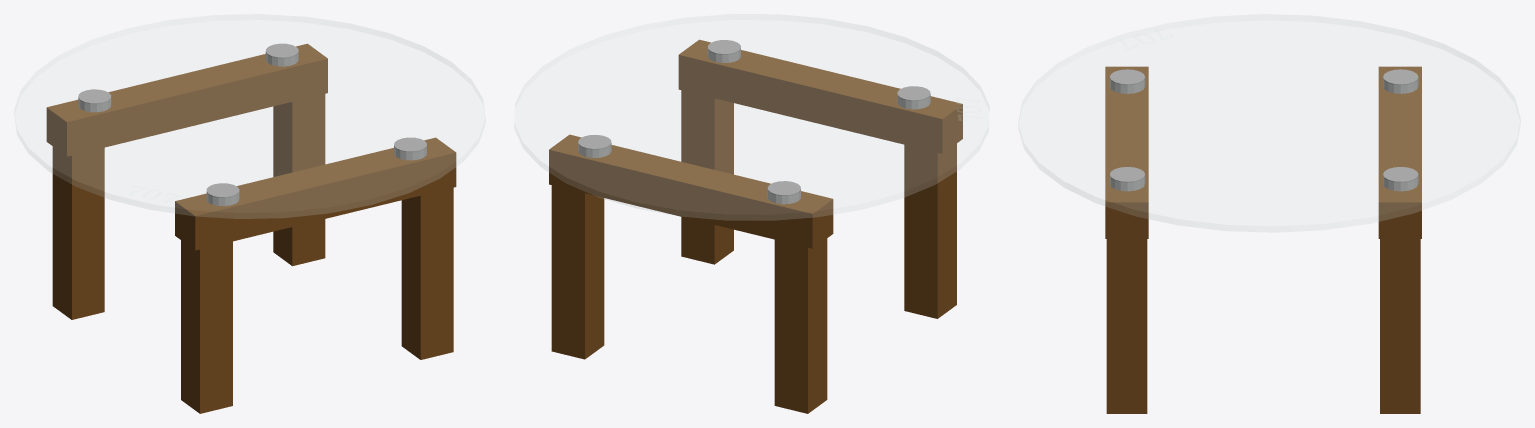
Rendered from GlassTable.fbx.
3 renders of one model, left to right at view 1: azimuth 30°, elevation 25°; view 2: azimuth 150°, elevation 25°; view 3: azimuth 270°, elevation 25°, orthographic. The views are drawn at different scales.
Parts seen in each view (by area): view 1: Cube.009; view 2: Cube.009; view 3: Cube.009.
Part boxes in pixels (x1=…): Cube.009: x1=14, y1=14, x2=485, y2=413; Cube.009: x1=514, y1=14, x2=989, y2=413; Cube.009: x1=1018, y1=14, x2=1520, y2=413.
Bounding box in the file's own units: 268 × 134 × 268.
3 materials, 1 textured.
